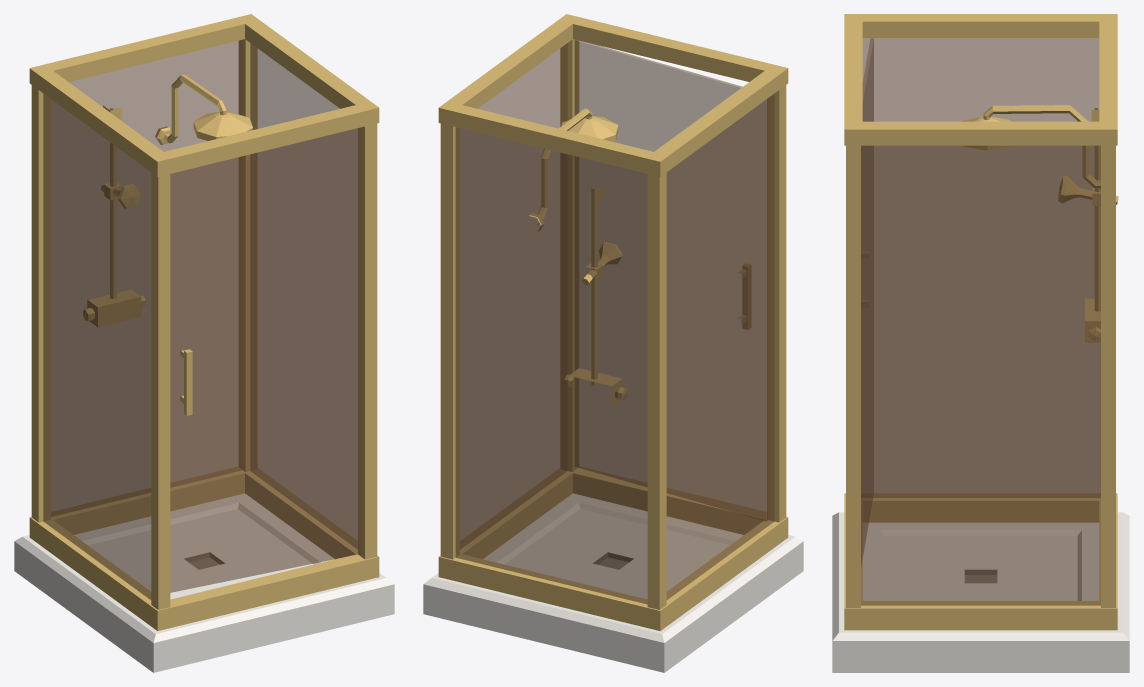
The model's file is shower-enclosure-a50c16.glb.
3 views of the same model, side by side, from view 1: azimuth 30°, elevation 25°; view 2: azimuth 150°, elevation 25°; view 3: azimuth 270°, elevation 25° (orthographic). The views are drawn at different scales.
Parts seen in each view (by area): view 1: shower-enclosure, door; view 2: shower-enclosure, door, handset; view 3: shower-enclosure, door, handset.
Part boxes in pixels (box(x1,y1,x2,y2)): shower-enclosure: box(14, 14, 394, 672); door: box(170, 127, 362, 592); shower-enclosure: box(423, 14, 803, 672); door: box(574, 40, 767, 520); handset: box(582, 242, 622, 285); shower-enclosure: box(832, 14, 1129, 672); door: box(861, 38, 873, 564); handset: box(1058, 176, 1118, 204).
Size of the model in its own units: 1 by 2 by 1.
